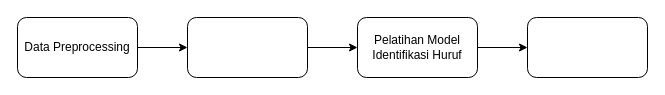
This 665x95 diagram has some shape labels left out. Each missing label, with the centre of its shape:
"Analisis Penelitian" goes at (587,47).
"Pemodelan Identifikasi Huruf" goes at (247,47).
